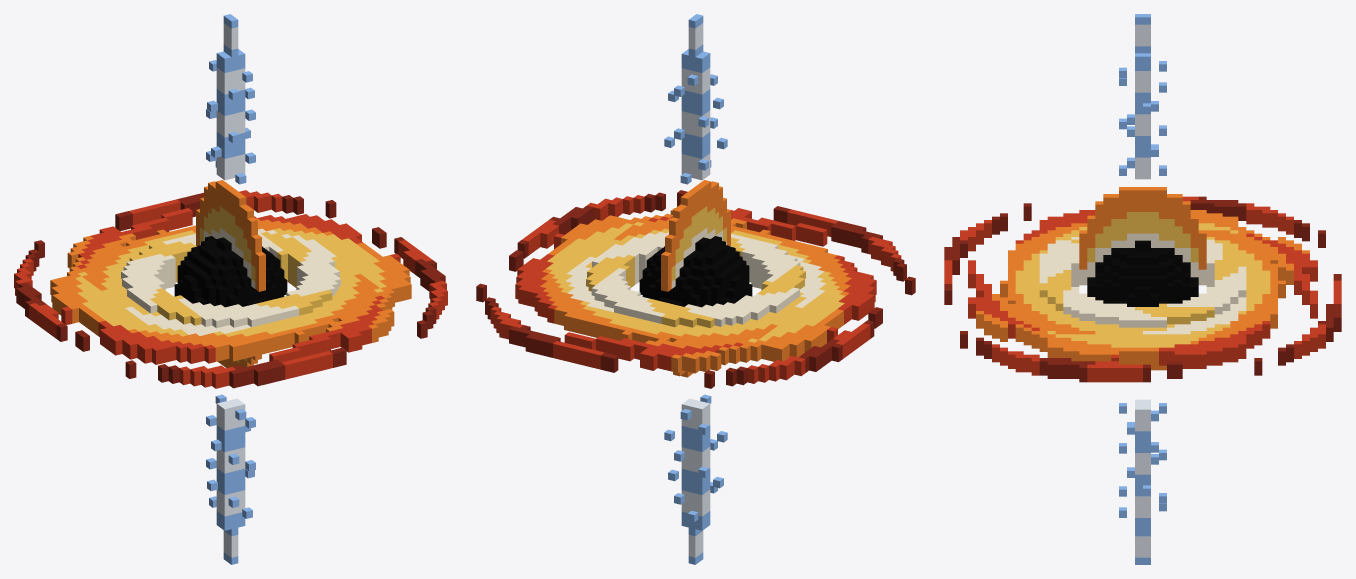
File: BlackHoletrial.obj
The picture shows the model from 3 angles, left to right: view 1: azimuth 30°, elevation 25°; view 2: azimuth 150°, elevation 25°; view 3: azimuth 270°, elevation 25°; orthographic projection.
Parts seen in each view (by area): view 1: DiscB, Rim, DiscA, Core, JetUp, JetDown; view 2: DiscB, Rim, DiscA, Core, JetUp, JetDown; view 3: DiscB, Core, Rim, DiscA, JetUp, JetDown.
Part boxes in pixels (box(x1,y1,x2,y2)): DiscB: box(50, 208, 411, 364); Rim: box(14, 190, 447, 388); DiscA: box(121, 232, 340, 328); Core: box(174, 180, 287, 367); JetUp: box(206, 14, 255, 184); JetDown: box(206, 394, 255, 564); DiscB: box(515, 208, 876, 373); Rim: box(476, 190, 915, 388); DiscA: box(586, 232, 805, 328); Core: box(639, 180, 752, 377); JetUp: box(664, 14, 727, 184); JetDown: box(664, 394, 727, 564); DiscB: box(968, 210, 1317, 368); Core: box(1079, 187, 1206, 370); Rim: box(944, 196, 1341, 382); DiscA: box(1039, 239, 1246, 327); JetUp: box(1119, 14, 1166, 179); JetDown: box(1119, 399, 1166, 564).
Bounding box in the file's own units: 12.75 × 19 × 12.5.
Materials: 1 (1 with a texture image).
